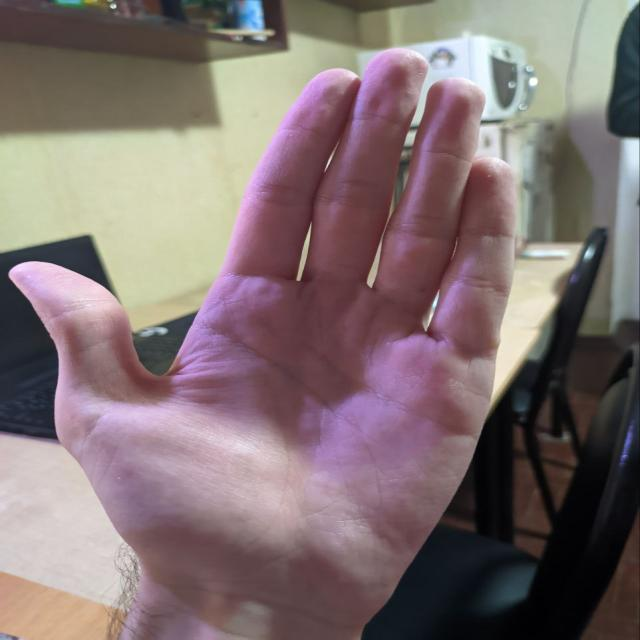v: (47, 24, 514, 594)
